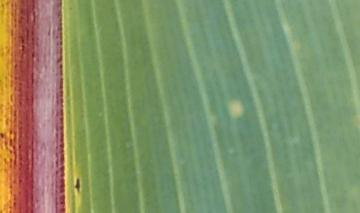tarspot: (73, 177, 82, 193)
